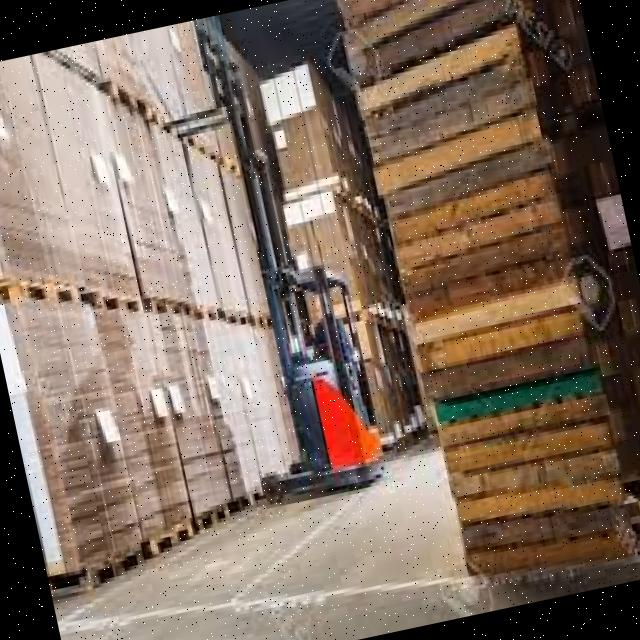Wooden-Pallets: (1, 262, 88, 313), (131, 509, 203, 565), (92, 281, 150, 327)
